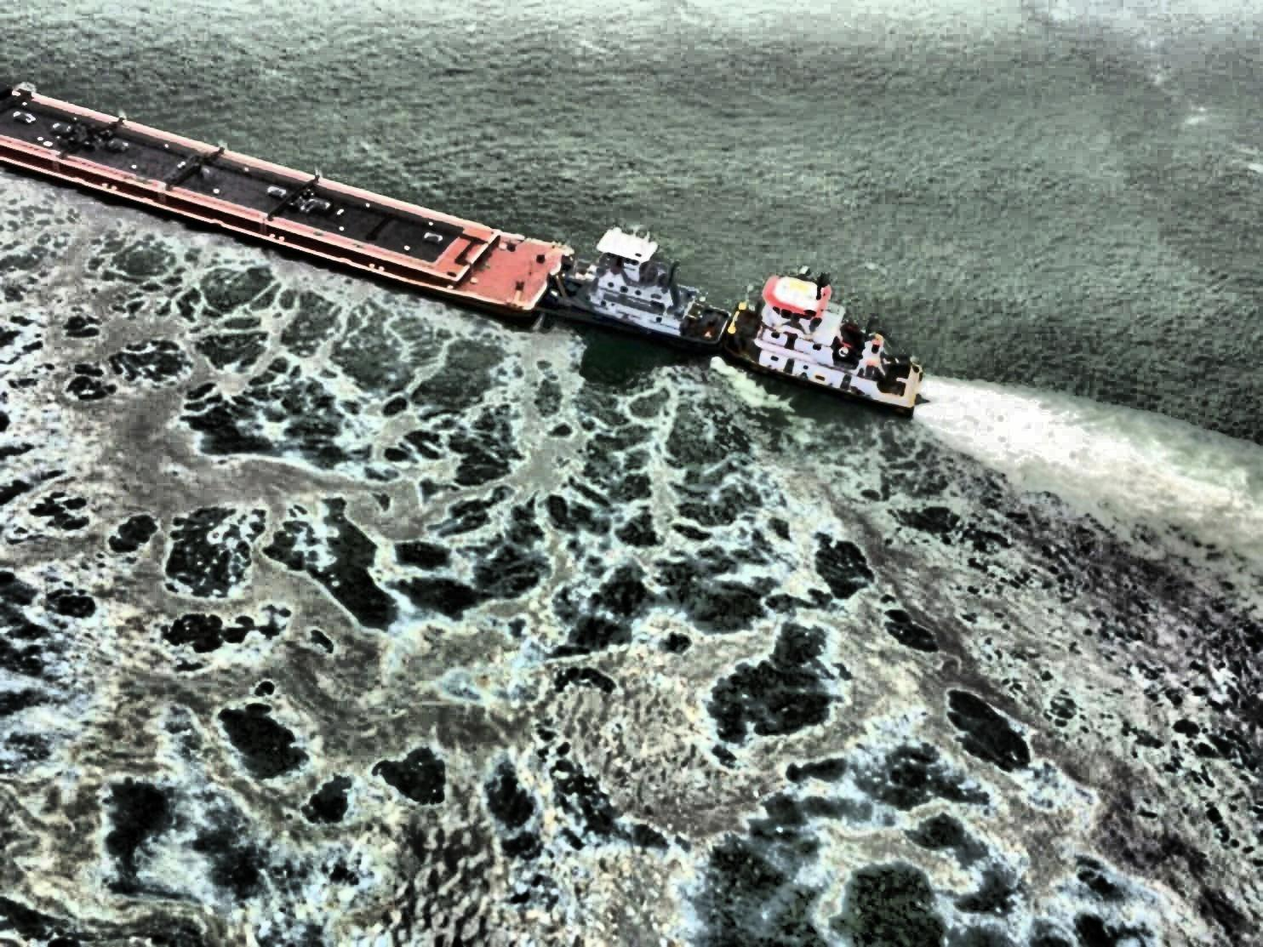sheen: (0, 254, 1096, 944)
